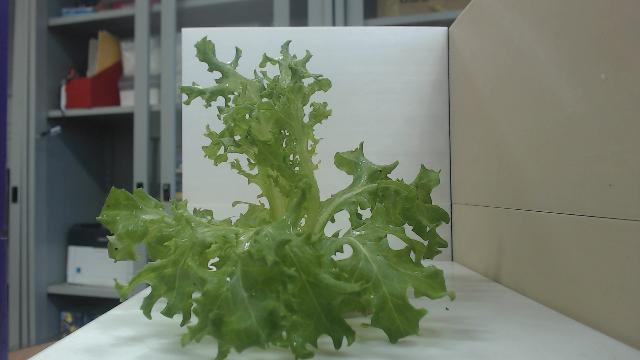Harvest Stage: (95, 32, 458, 360)
